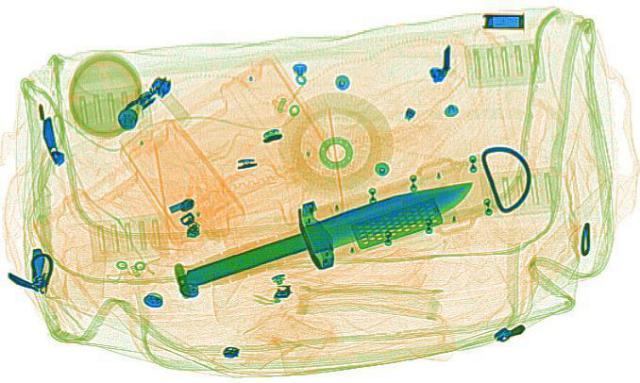Knife: (134, 150, 504, 315)
